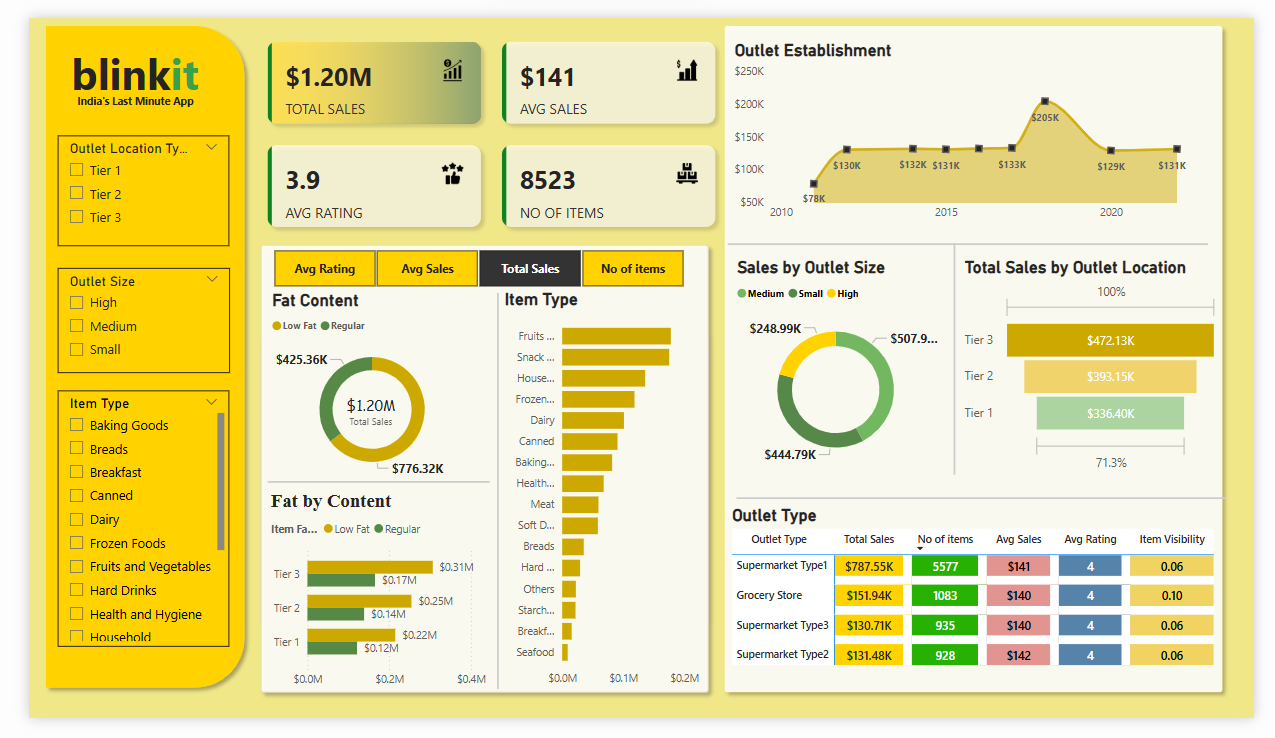

This screenshot's page, from the dashboard's own definition file:
{"tool":"powerbi","page":{"name":"Blinkit Sales Analysis","canvas":[1400,800],"ordinal":0},"visuals":[{"type":"shape","box":[10.2,0,245.5,774.5],"z":0},{"type":"textbox","box":[32.6,26.1,177,80.9],"z":1000},{"type":"textbox","box":[50.4,80,187.8,35.2],"z":2000},{"type":"cardVisual","fields":{"Data":["BlinkIT Grocery Data.Total Sales","BlinkIT Grocery Data.Avg Sales","BlinkIT Grocery Data.Avg Rating","BlinkIT Grocery Data.No of items"]},"box":[256.2,10,546.2,247.5],"z":3000},{"type":"shape","box":[255,250,530,530],"z":4000},{"type":"donutChart","title":"Fat Content","fields":{"Y":["BlinkIT Grocery Data.Avg Rating"],"Category":["BlinkIT Grocery Data.Item Fat Content"]},"box":[272.5,311.2,238.8,223.8],"z":5000},{"type":"slicer","fields":{"Values":["Metrics.Metrics"]},"box":[253.8,258.8,517.5,55],"z":6000},{"type":"cardVisual","fields":{"Data":["BlinkIT Grocery Data.Avg Rating"]},"box":[343.4,414.6,96.7,71.2],"z":7000},{"type":"clusteredBarChart","title":"Fat by Content","fields":{"Y":["BlinkIT Grocery Data.Avg Rating"],"Category":["BlinkIT Grocery Data.Outlet Location Type"],"Series":["BlinkIT Grocery Data.Item Fat Content"]},"box":[271.2,540,258.8,233.8],"z":8000},{"type":"shape","box":[272.5,521.2,253.8,17.5],"z":9000},{"type":"shape","box":[526.5,314.1,17.8,452.8],"z":10000},{"type":"barChart","title":"Item Type","fields":{"Y":["BlinkIT Grocery Data.Avg Rating"],"Category":["BlinkIT Grocery Data.Item Type"]},"box":[538.8,310,232.5,463.8],"z":11000},{"type":"shape","box":[785,0,587.5,780],"z":12000},{"type":"lineChart","title":"Outlet Establishment","fields":{"Category":["BlinkIT Grocery Data.Outlet Establishment Year"],"Y":["BlinkIT Grocery Data.Total Sales"]},"box":[801.2,26.2,528.8,215],"z":13000},{"type":"shape","box":[798.8,242.5,548.8,31.2],"z":14000},{"type":"donutChart","title":"Sales by Outlet Size","fields":{"Y":["BlinkIT Grocery Data.Total Sales"],"Category":["BlinkIT Grocery Data.Outlet Size"]},"box":[803.8,273.8,235,252.5],"z":15000},{"type":"shape","box":[1051.2,257.5,12.5,265],"z":16000},{"type":"funnel","title":"Total Sales by Outlet Location ","fields":{"Y":["BlinkIT Grocery Data.Total Sales"],"Category":["BlinkIT Grocery Data.Outlet Location Type"]},"box":[1063.8,273.8,300,250],"z":17000},{"type":"pivotTable","title":"Outlet Type","fields":{"Rows":["BlinkIT Grocery Data.Outlet Type"],"Values":["BlinkIT Grocery Data.Total Sales","BlinkIT Grocery Data.No of items","BlinkIT Grocery Data.Avg Sales","BlinkIT Grocery Data.Avg Rating","Avg(BlinkIT Grocery Data.Item Visibility)"]},"box":[798.8,557.5,572.5,205],"z":18000},{"type":"slicer","fields":{"Values":["BlinkIT Grocery Data.Outlet Location Type"]},"box":[32.7,134,196,126],"z":19000},{"type":"slicer","fields":{"Values":["BlinkIT Grocery Data.Outlet Size"]},"box":[32.7,285.3,196.7,120],"z":20000},{"type":"slicer","fields":{"Values":["BlinkIT Grocery Data.Item Type"]},"box":[32.7,426,196,292.7],"z":21000},{"type":"shape","box":[808.8,540,558.8,17.5],"z":22000}]}

Visuals, with their boxes in screenshot pixels (x1, y1, x2, y2), scaled from the page's 1400x800 canvas onto the 1275x738 screenshot:
shape: <box>9,0,233,714</box>
textbox: <box>30,24,191,99</box>
textbox: <box>46,74,217,106</box>
cardVisual - BlinkIT Grocery Data.Total Sales x BlinkIT Grocery Data.Avg Sales: <box>233,9,731,238</box>
shape: <box>232,231,715,720</box>
"Fat Content" donutChart: <box>248,287,466,494</box>
slicer - Metrics.Metrics: <box>231,239,702,289</box>
cardVisual - BlinkIT Grocery Data.Avg Rating: <box>313,382,401,448</box>
"Fat by Content" clusteredBarChart: <box>247,498,483,714</box>
shape: <box>248,481,479,497</box>
shape: <box>479,290,496,707</box>
"Item Type" barChart: <box>491,286,702,714</box>
shape: <box>715,0,1250,720</box>
"Outlet Establishment" lineChart: <box>730,24,1211,223</box>
shape: <box>727,224,1227,252</box>
"Sales by Outlet Size" donutChart: <box>732,253,946,486</box>
shape: <box>957,238,969,482</box>
"Total Sales by Outlet Location " funnel: <box>969,253,1242,483</box>
"Outlet Type" pivotTable: <box>727,514,1249,703</box>
slicer - BlinkIT Grocery Data.Outlet Location Type: <box>30,124,208,240</box>
slicer - BlinkIT Grocery Data.Outlet Size: <box>30,263,209,374</box>
slicer - BlinkIT Grocery Data.Item Type: <box>30,393,208,663</box>
shape: <box>737,498,1245,514</box>
